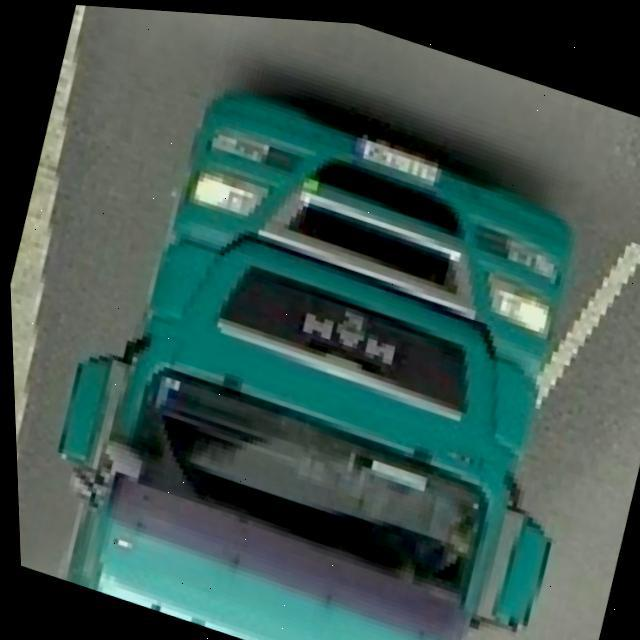truck: (12, 45, 640, 640)
